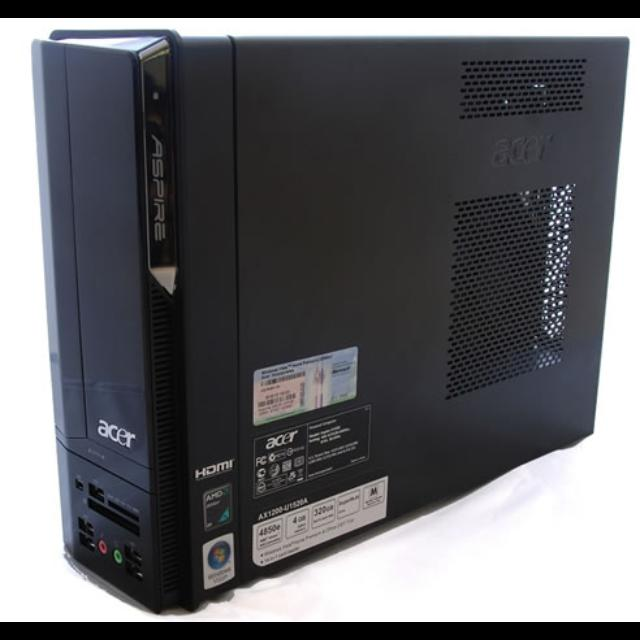Desktop-PC: (29, 18, 621, 620)
